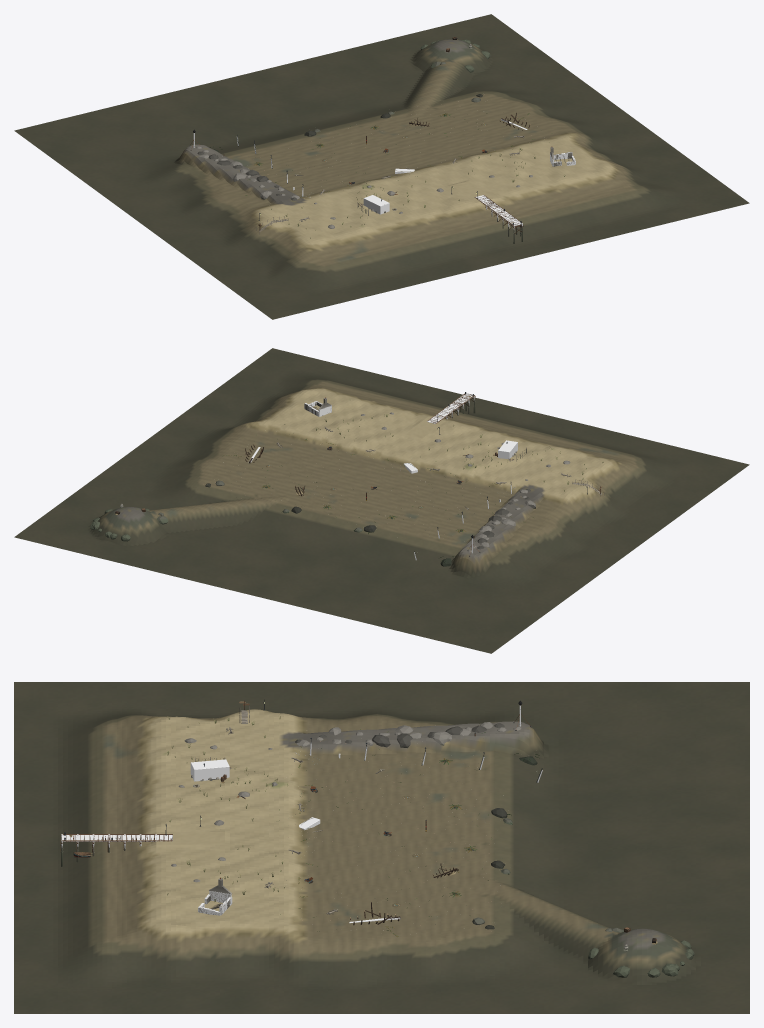
Rendered from shore.glb.
3 views of the same model, one above another, from view 1: azimuth 30°, elevation 25°; view 2: azimuth 150°, elevation 25°; view 3: azimuth 270°, elevation 25° (orthographic). The views are drawn at different scales.
Visible parts, largest first — view 1: terrain, jetty; view 2: terrain; view 3: terrain, COL_jetty, jetty, COL_fisher_hut.
Part boxes in pixels (x1,y1,x2,y2): terrain: (14,14,749,319); jetty: (474,195,523,243); terrain: (14,348,749,653); terrain: (14,682,749,1013); COL_jetty: (61,834,172,848); jetty: (60,834,172,866); COL_fisher_hut: (190,759,229,781).
Bounding box in the file's own units: 160 × 11.47 × 150.
